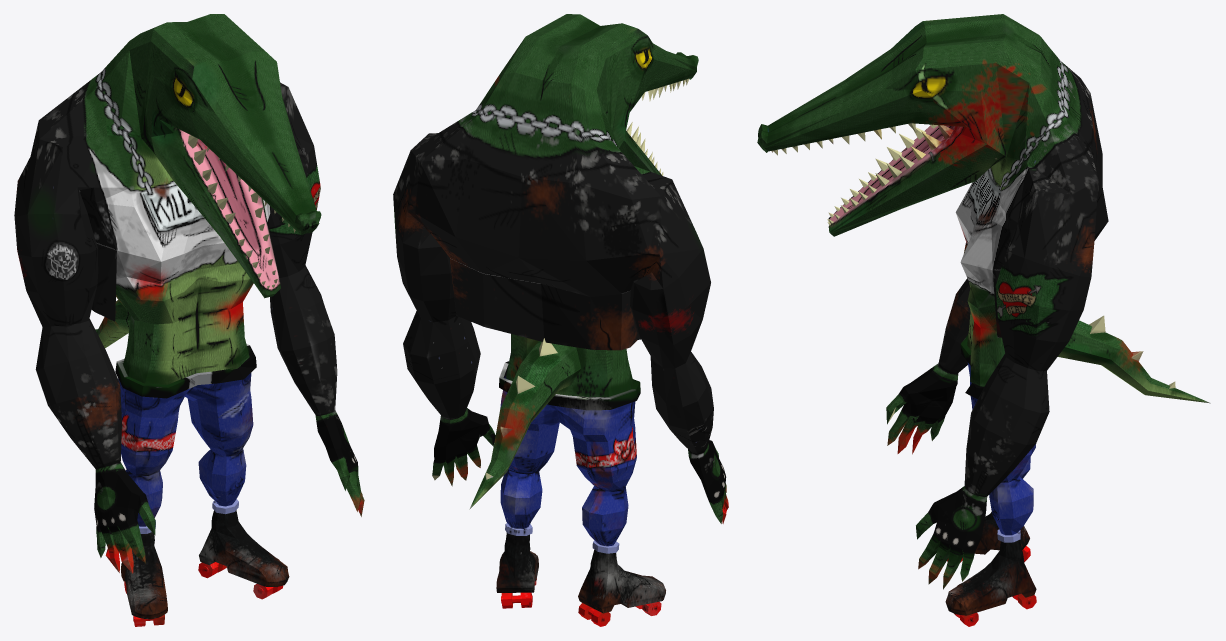
File: cocodrilaBonesSelect_000051.obj
3 renders of one model, left to right at view 1: azimuth 30°, elevation 25°; view 2: azimuth 150°, elevation 25°; view 3: azimuth 270°, elevation 25°, orthographic. The views are drawn at different scales.
Visible parts, largest first — view 1: Crocodile.002_Cylinder.002; view 2: Crocodile.002_Cylinder.002; view 3: Crocodile.002_Cylinder.002.
Boxes of the visible parts, x1=… form: Crocodile.002_Cylinder.002: x1=14, y1=14, x2=364, y2=626; Crocodile.002_Cylinder.002: x1=393, y1=14, x2=728, y2=626; Crocodile.002_Cylinder.002: x1=757, y1=14, x2=1210, y2=626.
Size of the model in its own units: 3.69 by 6.72 by 4.91.
